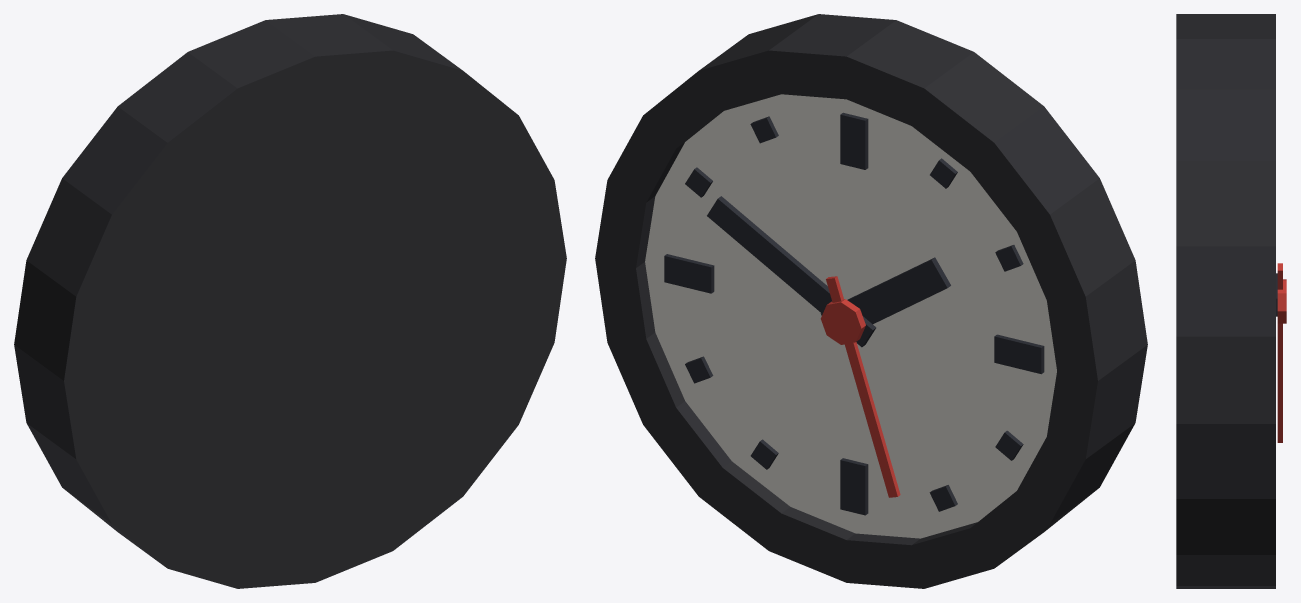
The model's file is FN_Clock_Wall.obj.
3 renders of one model, left to right at view 1: azimuth 30°, elevation 25°; view 2: azimuth 150°, elevation 25°; view 3: azimuth 270°, elevation 25°, orthographic.
Visible parts, largest first — view 1: FN_Clock_Wall; view 2: FN_Clock_Wall; view 3: FN_Clock_Wall.
Part boxes in pixels (x1,y1,x2,y2): FN_Clock_Wall: (14,14,566,588); FN_Clock_Wall: (595,14,1147,588); FN_Clock_Wall: (1176,14,1286,588).
Size of the model in its own units: 0.32 by 0.32 by 0.061.
Materials: 1 (1 with a texture image).
